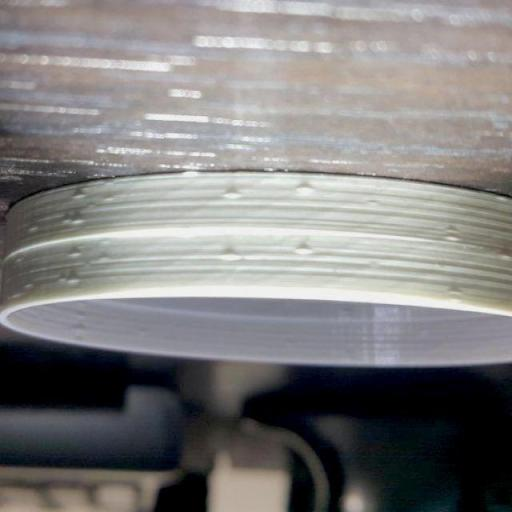blobs: (292, 182, 316, 200), (220, 188, 244, 206), (220, 246, 243, 264), (66, 246, 86, 265), (296, 241, 317, 257), (66, 269, 84, 286), (444, 227, 462, 243), (22, 223, 40, 239), (69, 215, 87, 230), (70, 322, 89, 336), (71, 190, 87, 205), (73, 307, 89, 322), (95, 252, 112, 264), (501, 247, 512, 263)
